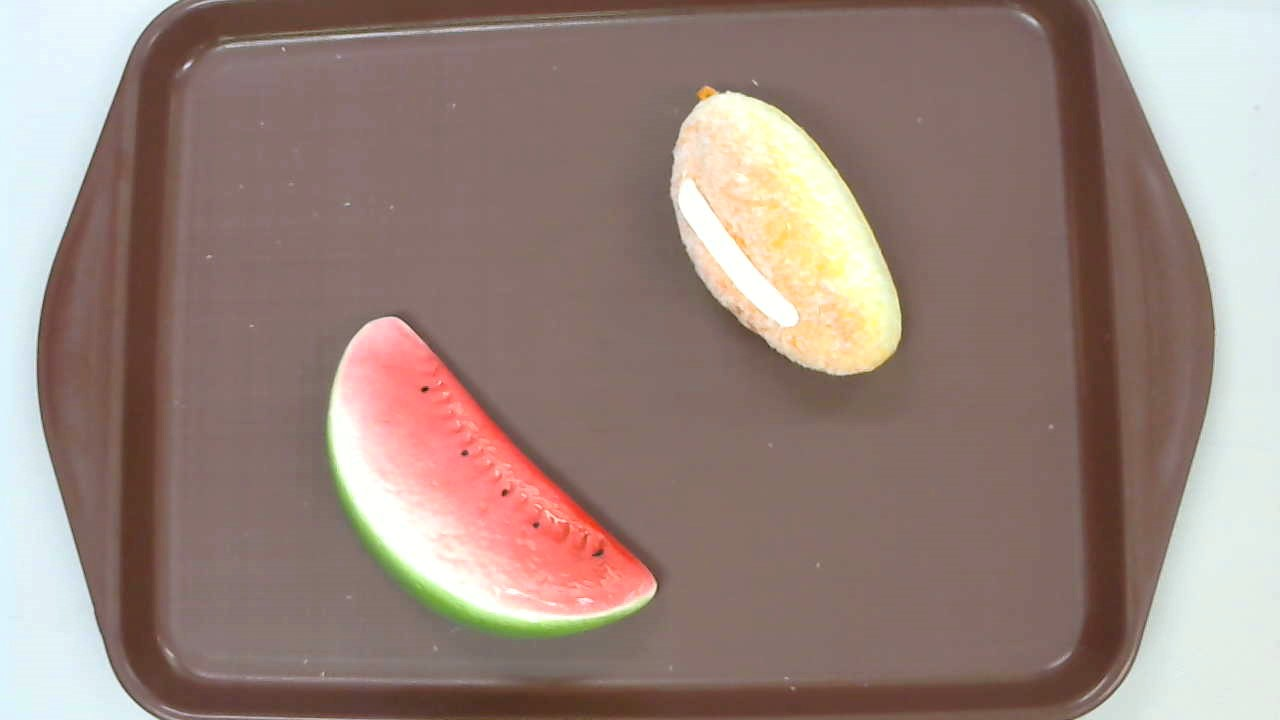coconut: (667, 86, 903, 376)
water melon: (324, 316, 659, 640)
